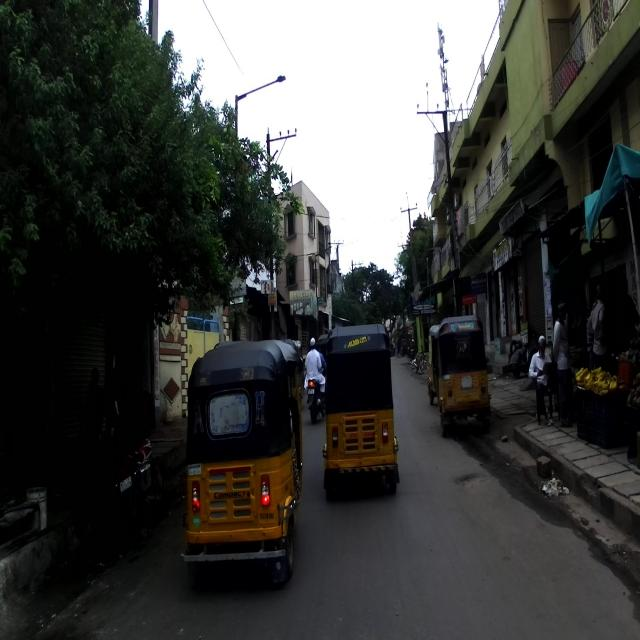autorickshaw: (179, 338, 304, 585), (322, 323, 400, 502), (432, 314, 492, 436)
motorcycle: (112, 412, 168, 541)
